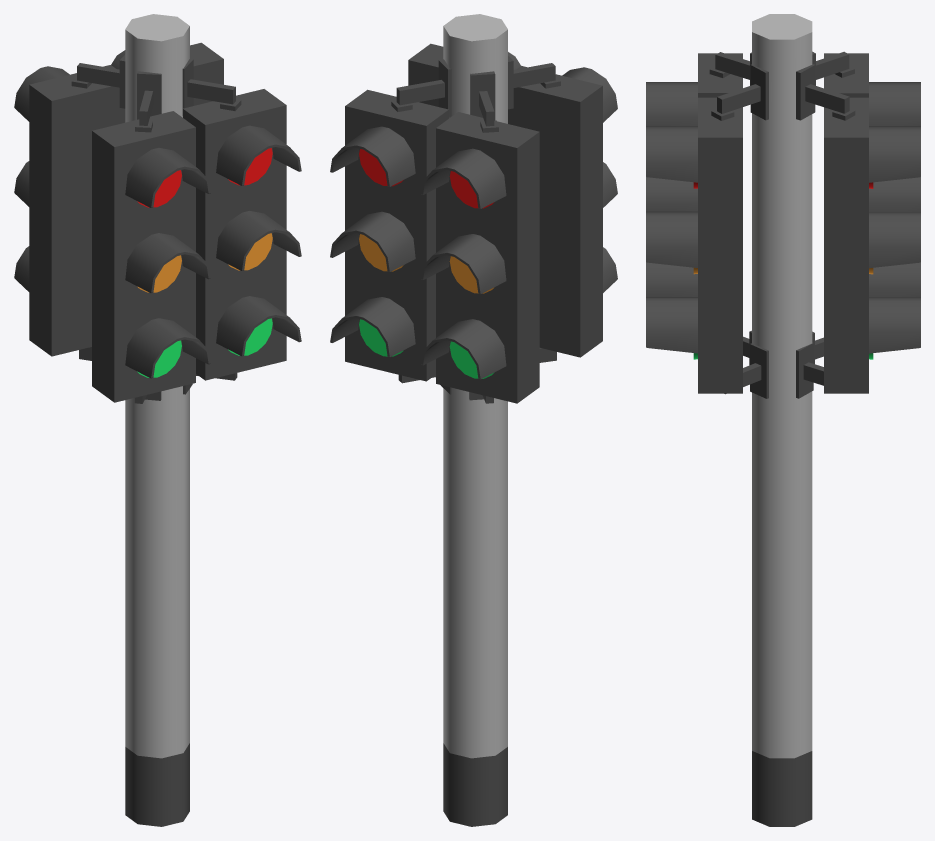
File: trafficlight4car3.fbx
3 views of the same model, side by side, from view 1: azimuth 30°, elevation 25°; view 2: azimuth 150°, elevation 25°; view 3: azimuth 270°, elevation 25° (orthographic).
Visible parts, largest first — view 1: TrafficLight4Car3, pCube364, pCube379, pCube255, pCube365, pCube367, pCube371, pCube375, pCube359, pCube361, pCube368, pCube366 (+15 smaller); view 2: TrafficLight4Car3, pCube379, pCube364, pCube377, pCube375, pCube371, pCube367, pCube365, pCube373, pCube369, pCube372, pCube380 (+15 smaller); view 3: TrafficLight4Car3, pCube377, pCube255, pCube361, pCube369, pCube359, pCube373, pCube360, pCube378, pCube260, pCube370, pCube362 (+15 smaller).
Part boxes in pixels (x1=…): TrafficLight4Car3: x1=125, y1=14, x2=189, y2=826; pCube364: x1=92, y1=111, x2=195, y2=232; pCube379: x1=29, y1=65, x2=125, y2=185; pCube255: x1=183, y1=89, x2=286, y2=210; pCube365: x1=92, y1=212, x2=195, y2=317; pCube367: x1=92, y1=298, x2=195, y2=402; pCube371: x1=29, y1=255, x2=91, y2=356; pCube375: x1=29, y1=170, x2=91, y2=271; pCube359: x1=196, y1=190, x2=286, y2=295; pCube361: x1=196, y1=275, x2=286, y2=380; pCube368: x1=125, y1=318, x2=210, y2=378; pCube366: x1=125, y1=233, x2=210, y2=292; TrafficLight4Car3: x1=443, y1=14, x2=507, y2=826; pCube379: x1=436, y1=112, x2=539, y2=232; pCube364: x1=508, y1=66, x2=602, y2=187; pCube377: x1=345, y1=89, x2=448, y2=210; pCube375: x1=436, y1=213, x2=539, y2=318; pCube371: x1=436, y1=298, x2=539, y2=403; pCube367: x1=539, y1=256, x2=602, y2=357; pCube365: x1=539, y1=171, x2=602, y2=272; pCube373: x1=345, y1=191, x2=435, y2=296; pCube369: x1=345, y1=276, x2=435, y2=381; pCube372: x1=421, y1=319, x2=506, y2=379; pCube380: x1=421, y1=148, x2=506, y2=208; TrafficLight4Car3: x1=752, y1=14, x2=812, y2=826; pCube377: x1=824, y1=97, x2=868, y2=222; pCube255: x1=698, y1=97, x2=742, y2=222; pCube361: x1=698, y1=308, x2=742, y2=393; pCube369: x1=824, y1=308, x2=868, y2=393; pCube359: x1=698, y1=223, x2=742, y2=308; pCube373: x1=824, y1=223, x2=868, y2=308; pCube360: x1=646, y1=211, x2=697, y2=267; pCube378: x1=869, y1=126, x2=920, y2=182; pCube260: x1=646, y1=126, x2=697, y2=182; pCube370: x1=869, y1=297, x2=920, y2=353; pCube362: x1=646, y1=297, x2=697, y2=353.
Bounding box in the file's own units: 74.12 × 323 × 102.
